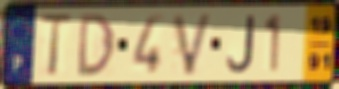1: (262, 12, 281, 76)
4: (130, 13, 165, 77)
D: (77, 12, 118, 79)
J: (224, 14, 255, 74)
T: (38, 12, 74, 79)
V: (171, 11, 216, 78)
